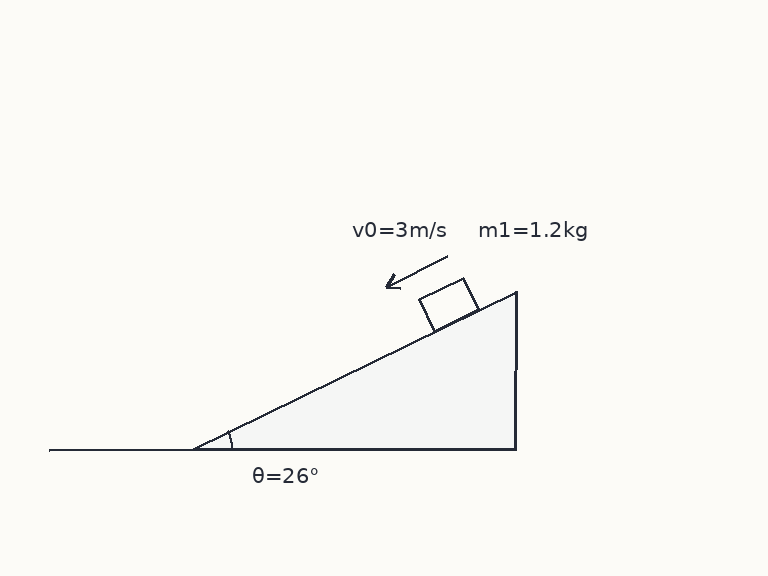block: (416, 276, 480, 333)
ramp: (190, 290, 517, 451)
